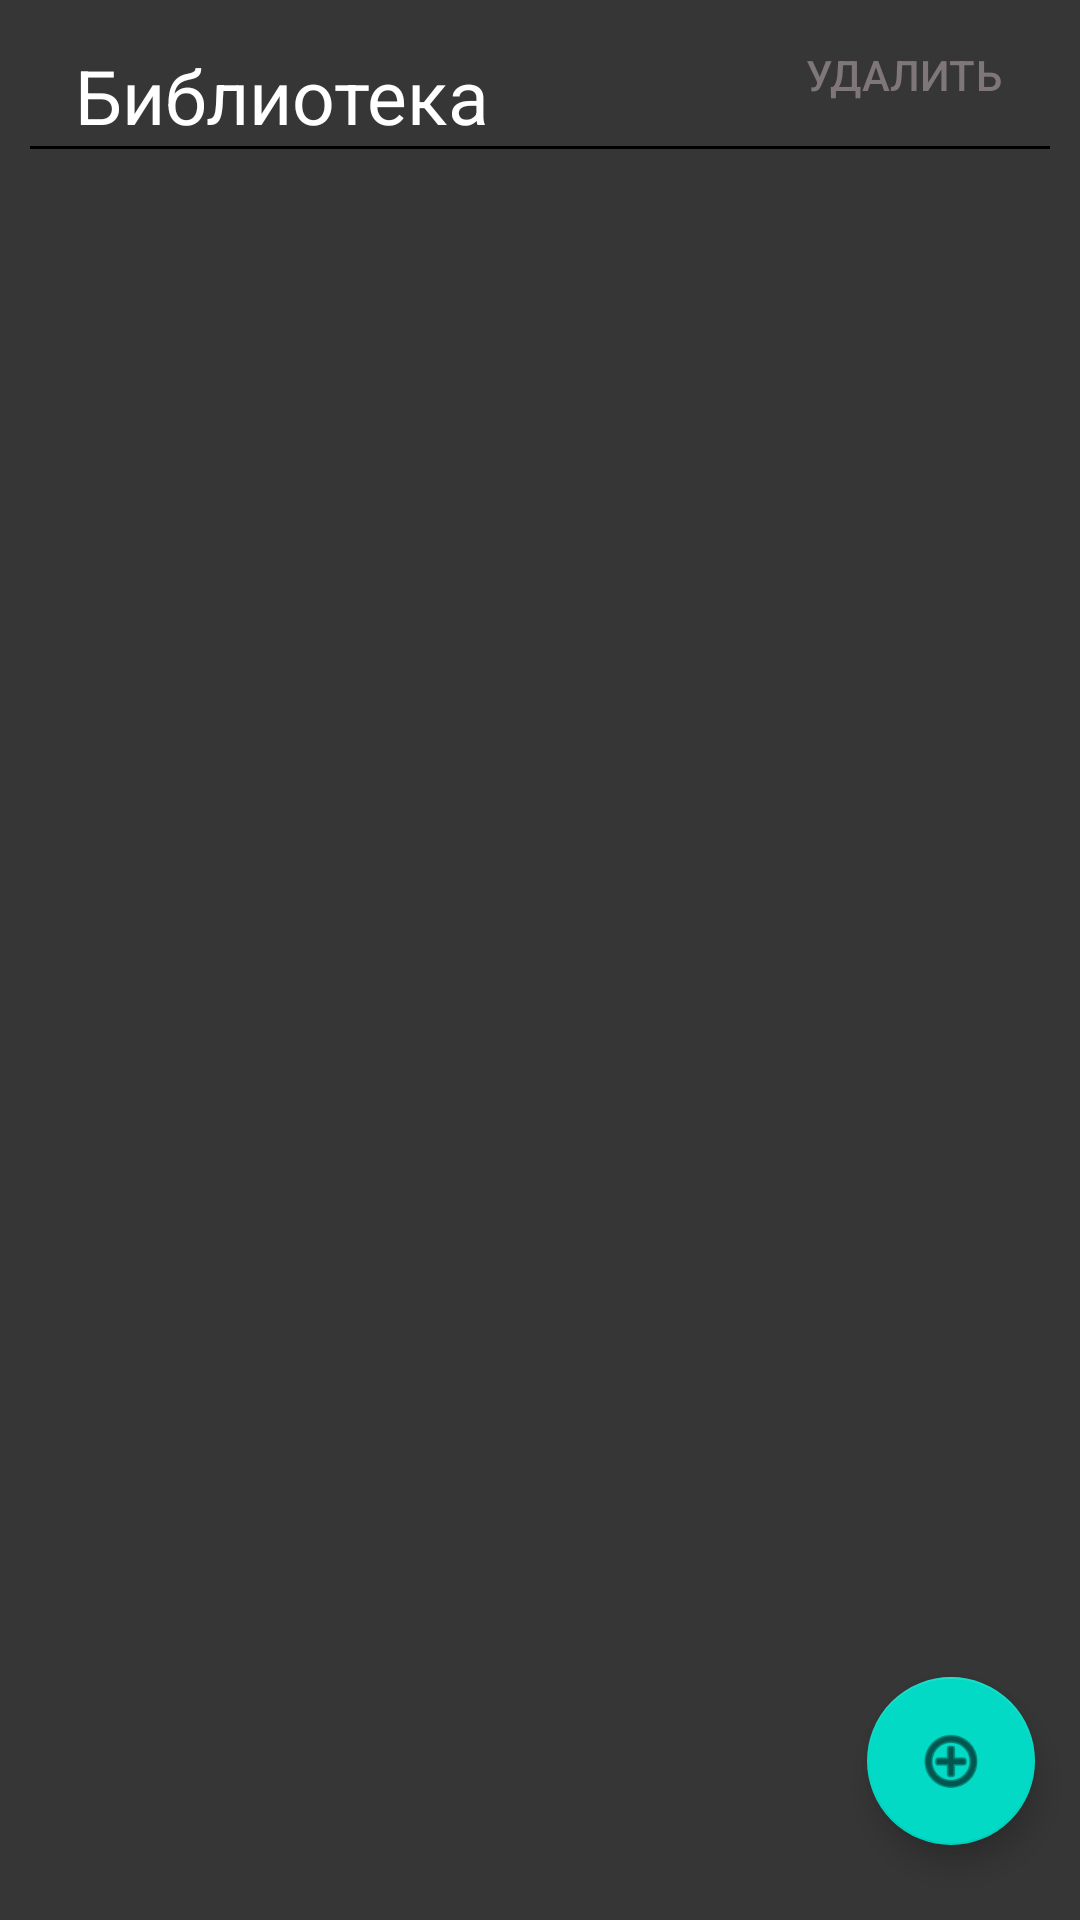

Icons on this 1080x1920 Android screen, each with the point to tap as (x=x, y=y):
add: (x=951, y=1761)
